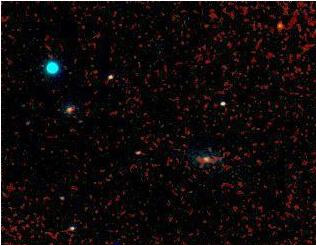star: (266, 10, 296, 40)
